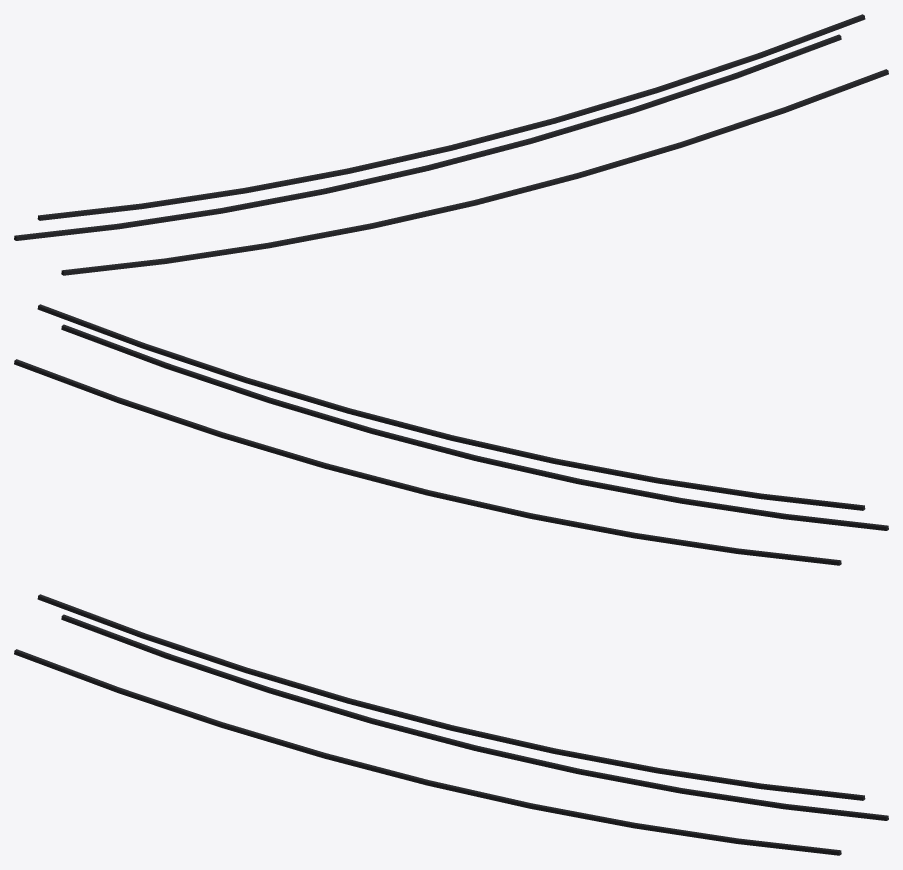
File: SM_Street_PowerLine_Span08_01.fbx
3 renders of one model, top to bottom at view 1: azimuth 30°, elevation 25°; view 2: azimuth 150°, elevation 25°; view 3: azimuth 330°, elevation 25°, orthographic.
Parts seen in each view (by area): view 1: SM_Street_PowerLine_Span08_01; view 2: SM_Street_PowerLine_Span08_01; view 3: SM_Street_PowerLine_Span08_01.
Part boxes in pixels (<box>): SM_Street_PowerLine_Span08_01: <box>14,14,888,275</box>; SM_Street_PowerLine_Span08_01: <box>14,304,888,565</box>; SM_Street_PowerLine_Span08_01: <box>14,594,888,855</box>.
Size of the model in its own units: 8.05 by 0.6694 by 0.836.
Materials: 1 (1 with a texture image).
